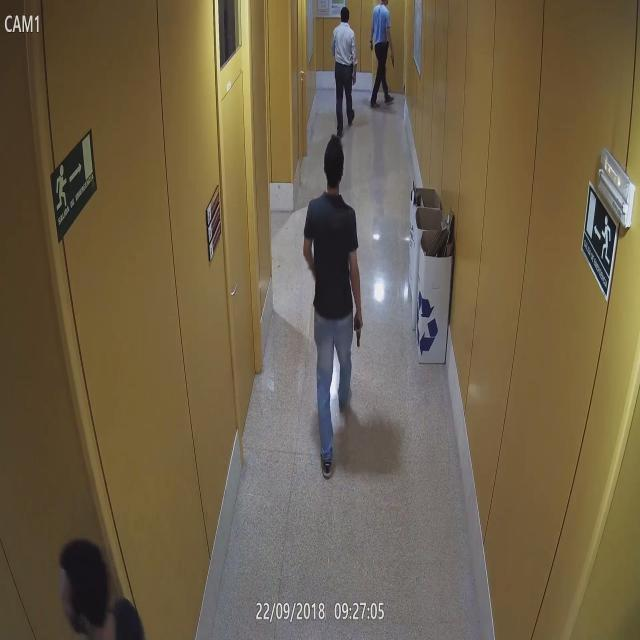weapon: (352, 319, 362, 348), (389, 54, 397, 70), (353, 76, 358, 86)
